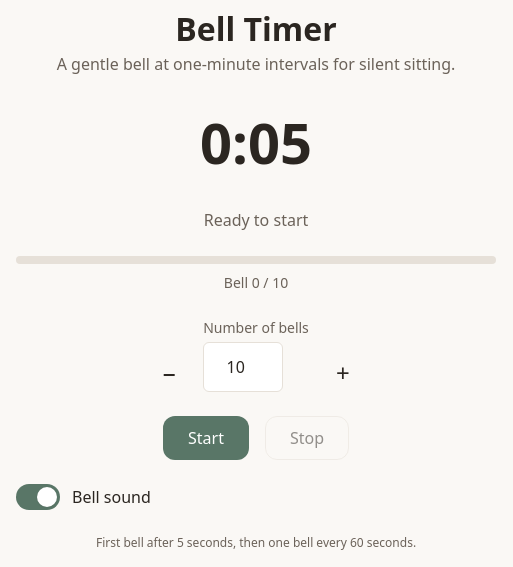
Test: BellTimerPage › increments and decrements the bell count within bounds
Click the button named "More bells" at (343, 370), box [321,348,365,392]
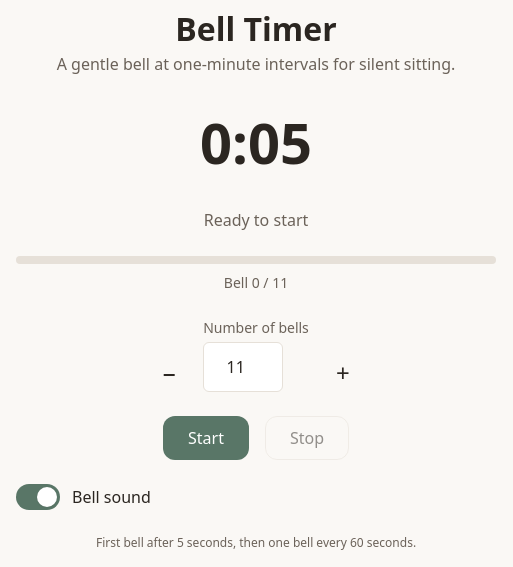
Expected: the number field labelled "Number of bells" holds "11", [203,342,283,392]
Click the button named "Fewer bells" at (169, 370), box [147,348,191,392]
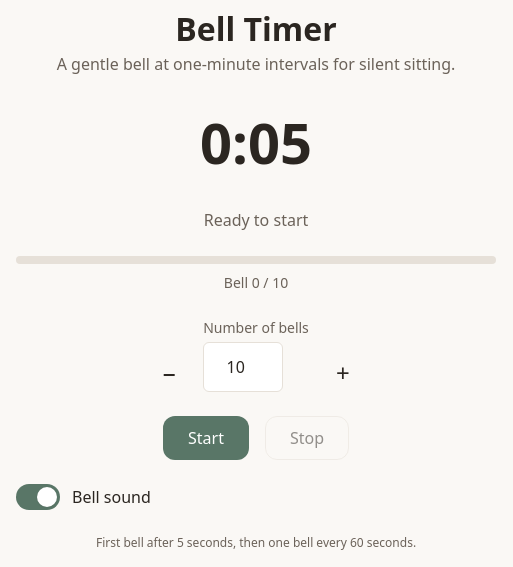
Click the button named "Fewer bells" at (169, 370), box [147,348,191,392]
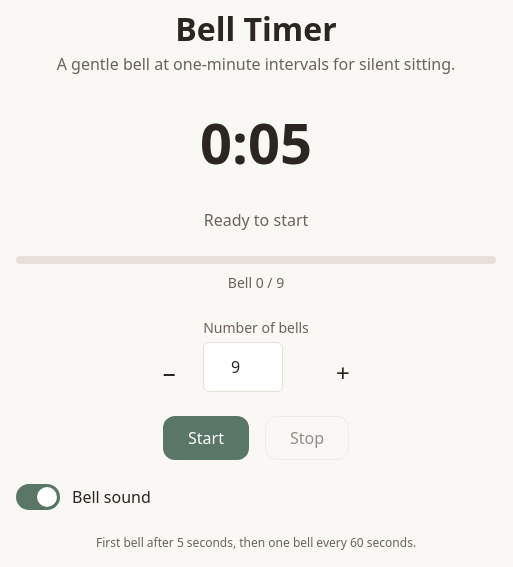
Expected: the number field labelled "Number of bells" holds "9", [203,342,283,392]
